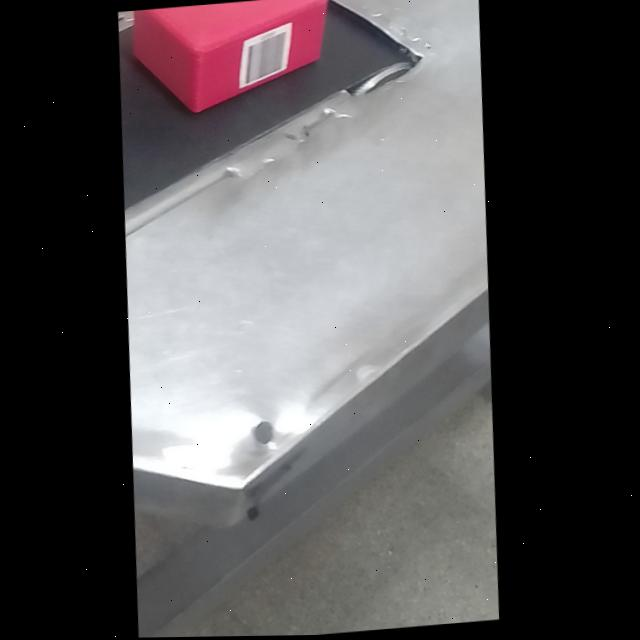redBox: (119, 0, 350, 145)
